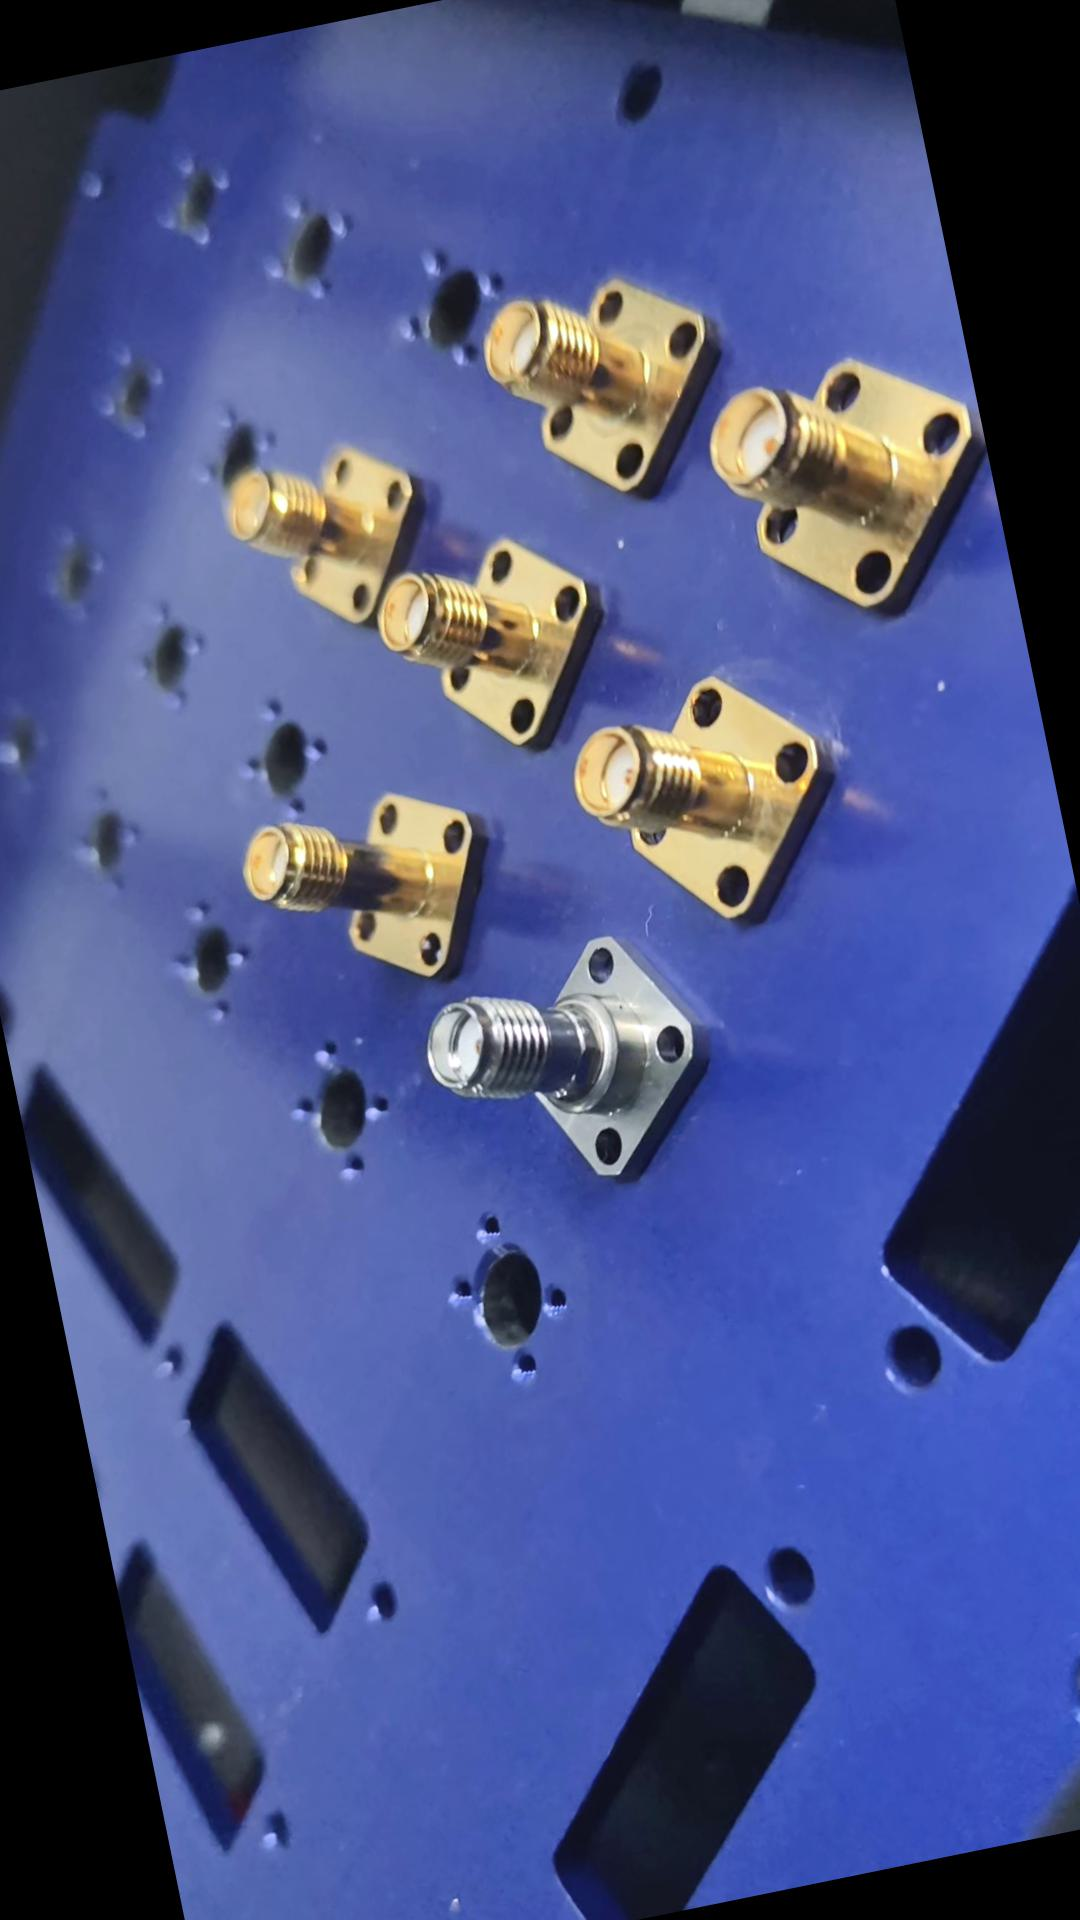SMA: (678, 328, 1007, 644), (401, 901, 727, 1208), (556, 641, 860, 945), (472, 237, 742, 522), (222, 760, 498, 1014), (381, 498, 620, 766), (206, 422, 442, 658)
